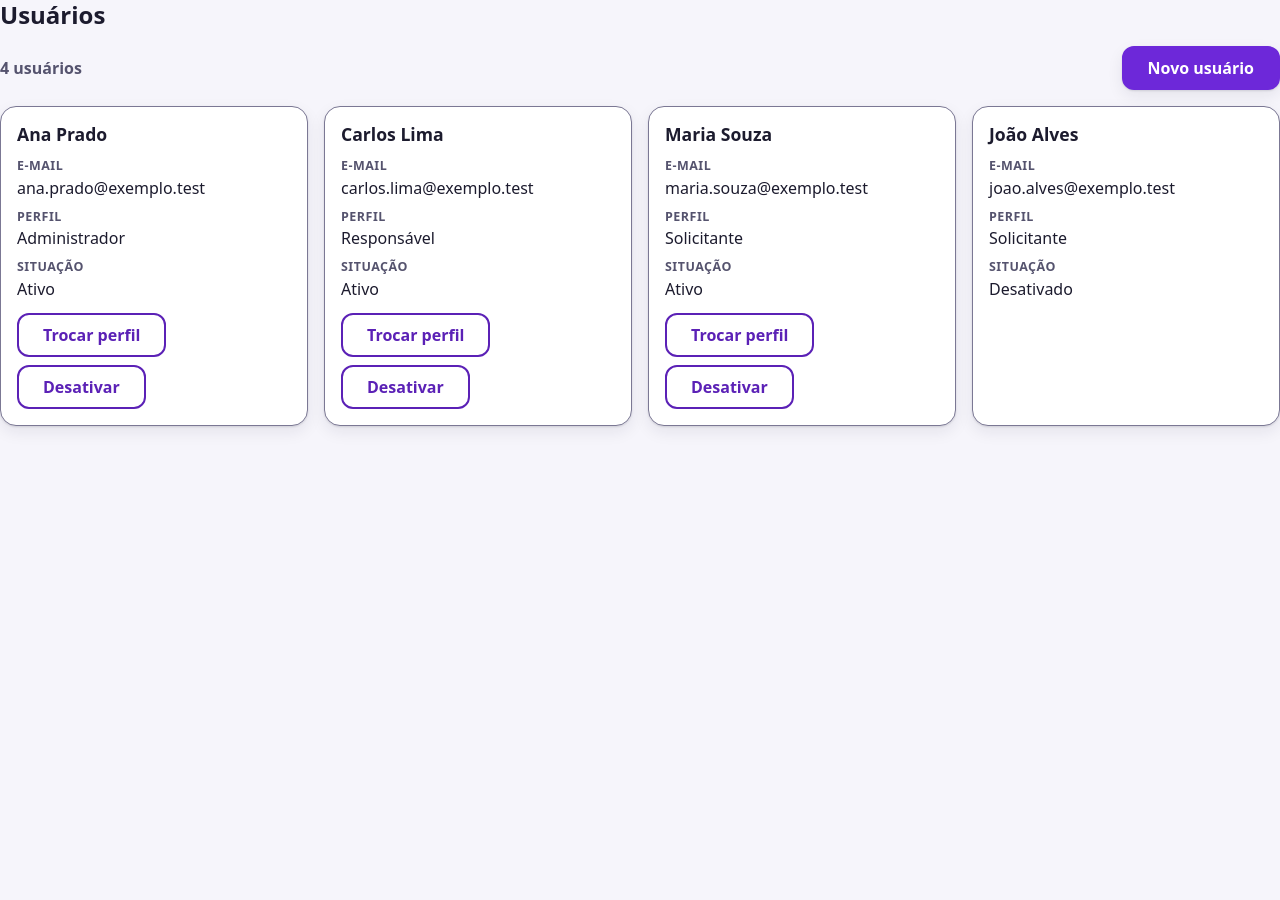
Scenario: PaginaDeUsuarios: cadastro (RF-15) › Novo usuário abre um diálogo modal com os campos, e o foco vai para o nome
Click the button "Novo usuário".
click(1201, 68)  # box [1122,46,1279,90]
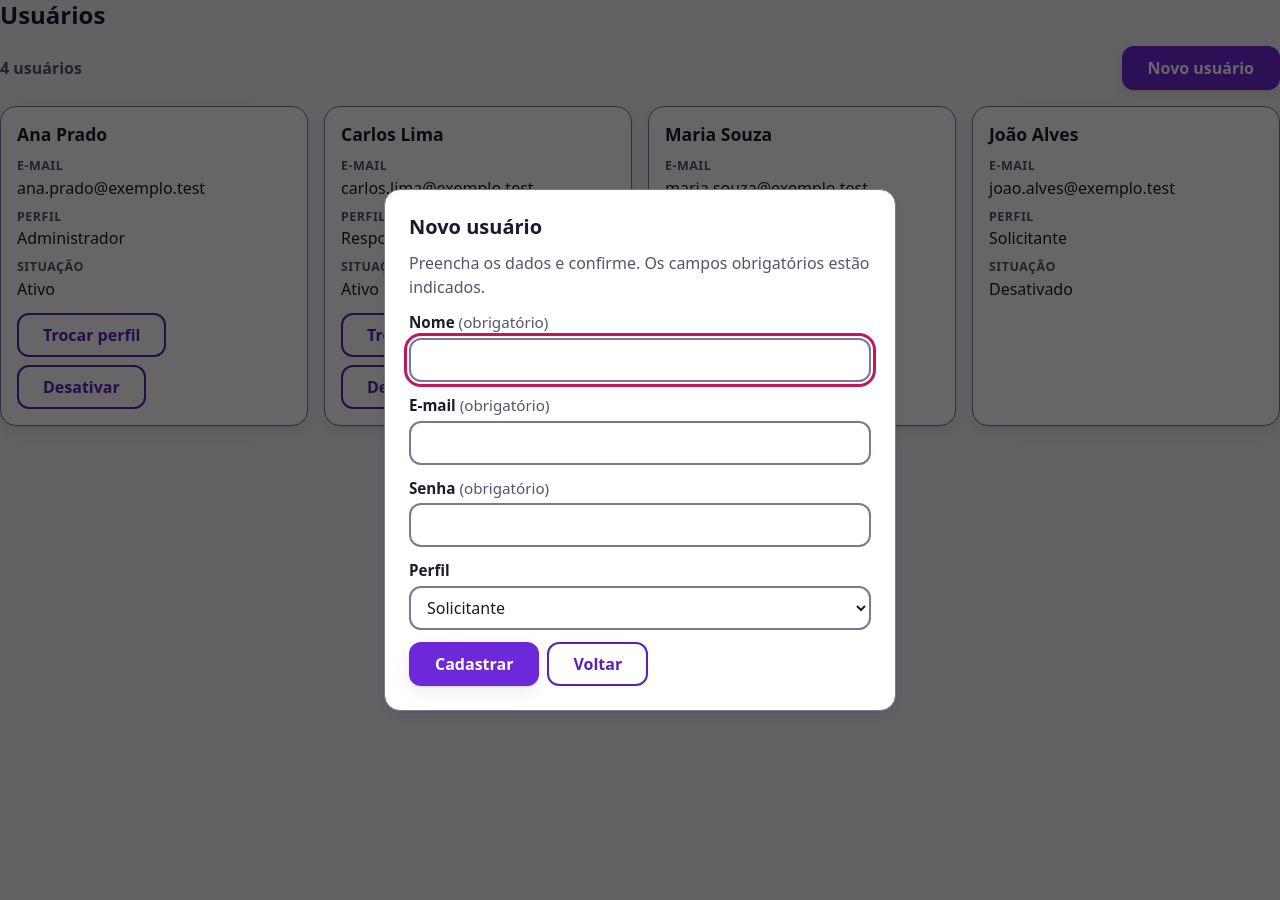
Now the dropdown labelled "Perfil" is shown, box [409,586,871,630]
